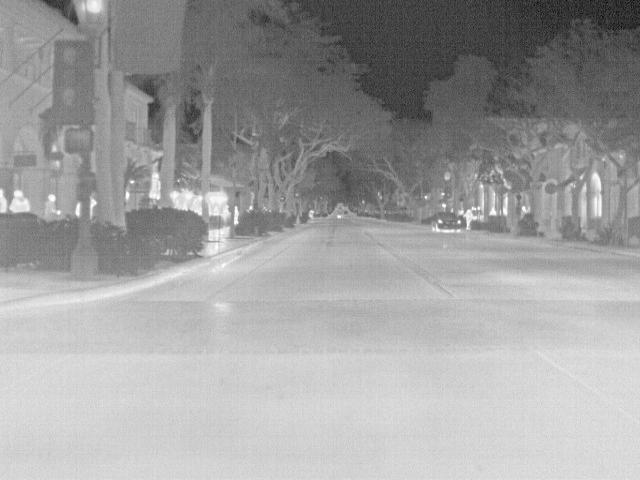car: (430, 212, 464, 232)
person: (9, 188, 34, 214), (44, 191, 60, 221), (232, 202, 242, 227), (1, 186, 10, 213), (464, 206, 472, 229), (222, 204, 229, 215)
